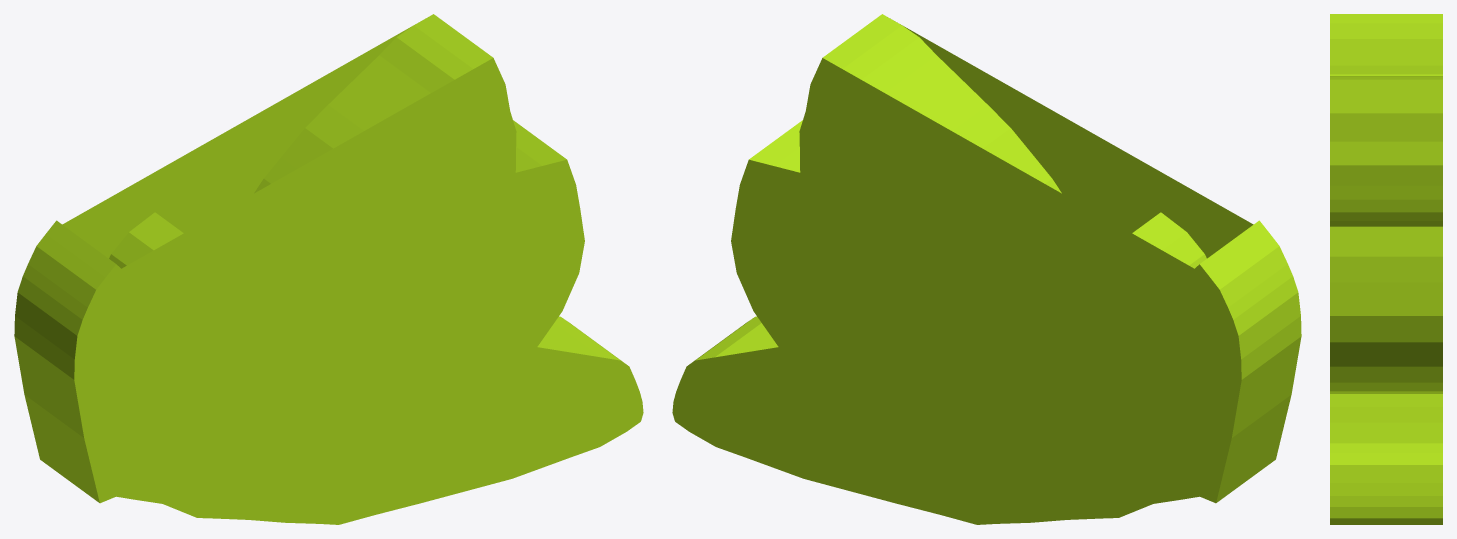
Rendered from rockingchair.fbx_plant.fbx.
3 views of the same model, side by side, from view 1: azimuth 30°, elevation 25°; view 2: azimuth 150°, elevation 25°; view 3: azimuth 270°, elevation 25° (orthographic). The views are drawn at different scales.
Parts seen in each view (by area): view 1: plant; view 2: plant; view 3: plant.
Boxes of the visible parts, x1,y1,x2,y2 form: plant: [14, 14, 643, 524]; plant: [672, 14, 1301, 524]; plant: [1330, 14, 1442, 524].
Size of the model in its own units: 16.47 by 11.88 by 3.
